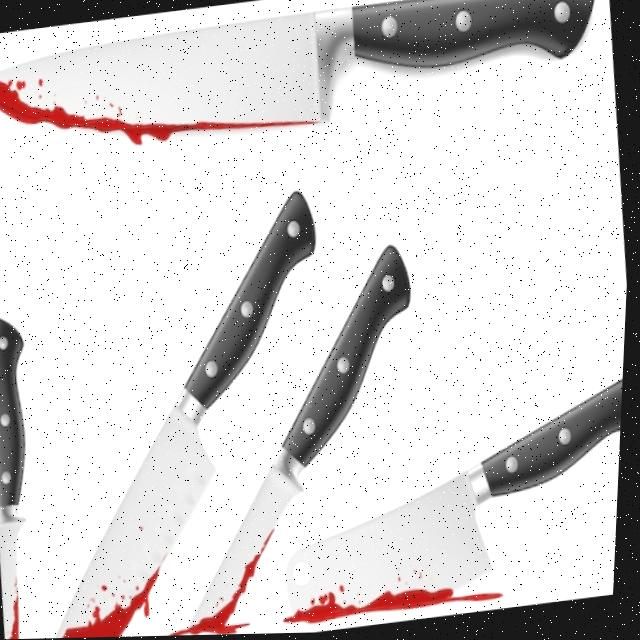knife: (10, 185, 359, 639), (154, 241, 448, 635), (0, 0, 604, 168), (275, 365, 627, 620), (0, 308, 58, 640)
